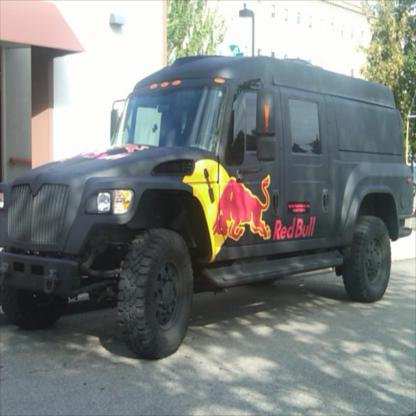Truck: (0, 54, 414, 358)
